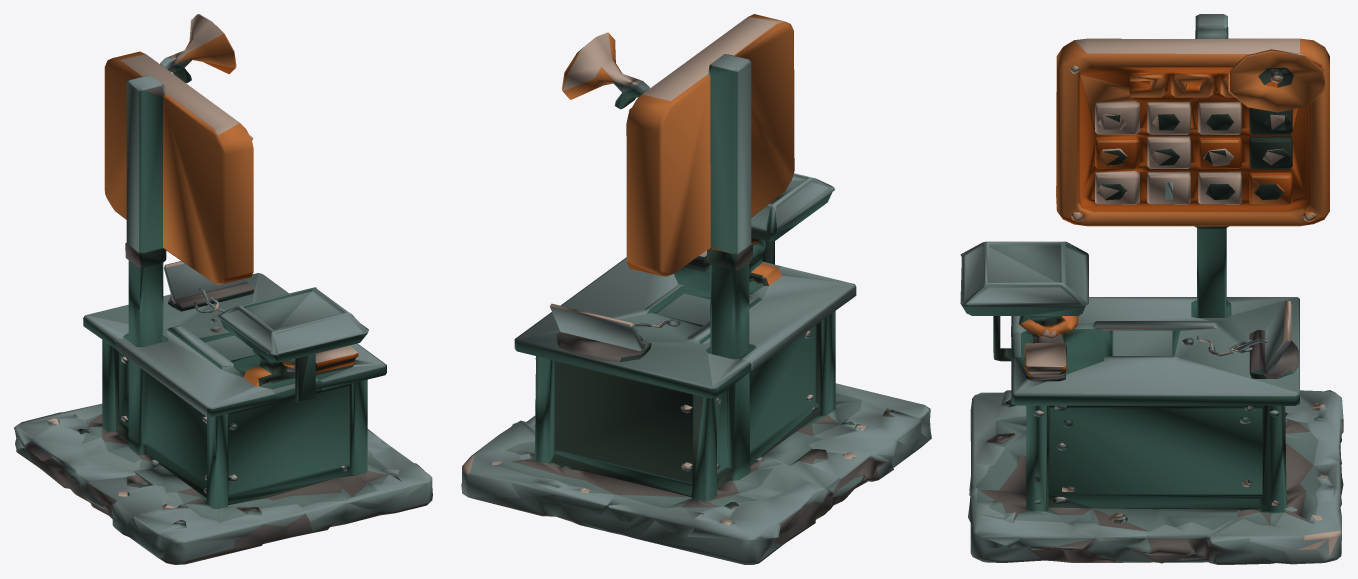
The model's file is poi_tally_stand.glb.
The picture shows the model from 3 angles, left to right: view 1: azimuth 30°, elevation 25°; view 2: azimuth 150°, elevation 25°; view 3: azimuth 270°, elevation 25°; orthographic projection. The views are drawn at different scales.
Parts seen in each view (by area): view 1: TallyStand; view 2: TallyStand; view 3: TallyStand.
Boxes of the visible parts, x1,y1,x2,y2 form: TallyStand: (14, 14, 432, 564); TallyStand: (461, 14, 931, 564); TallyStand: (960, 14, 1343, 564).
Size of the model in its own units: 2.86 by 4 by 3.
